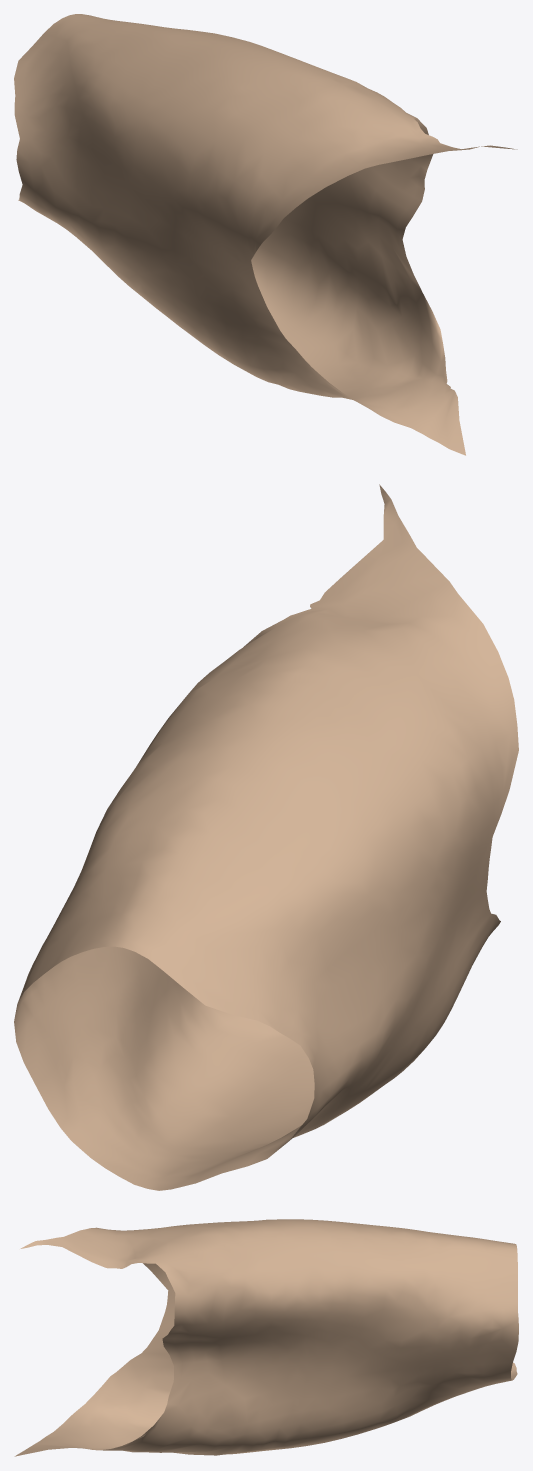
3 views of the same model, one above another, from view 1: azimuth 30°, elevation 25°; view 2: azimuth 150°, elevation 25°; view 3: azimuth 270°, elevation 25° (orthographic). The views are drawn at different scales.
Visible parts, largest first — view 1: 右侧臂筋膜; view 2: 右侧臂筋膜; view 3: 右侧臂筋膜.
Part boxes in pixels (bbox=[...]): 右侧臂筋膜: bbox=[14, 14, 517, 455]; 右侧臂筋膜: bbox=[14, 484, 518, 1190]; 右侧臂筋膜: bbox=[14, 1219, 518, 1456].
Bounding box in the file's own units: 0.1297 × 0.1496 × 0.2973.
